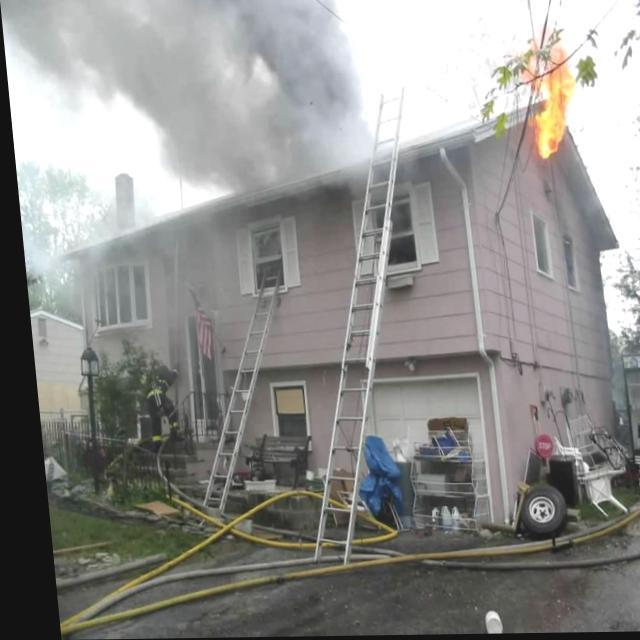Fire: (518, 51, 584, 166)
